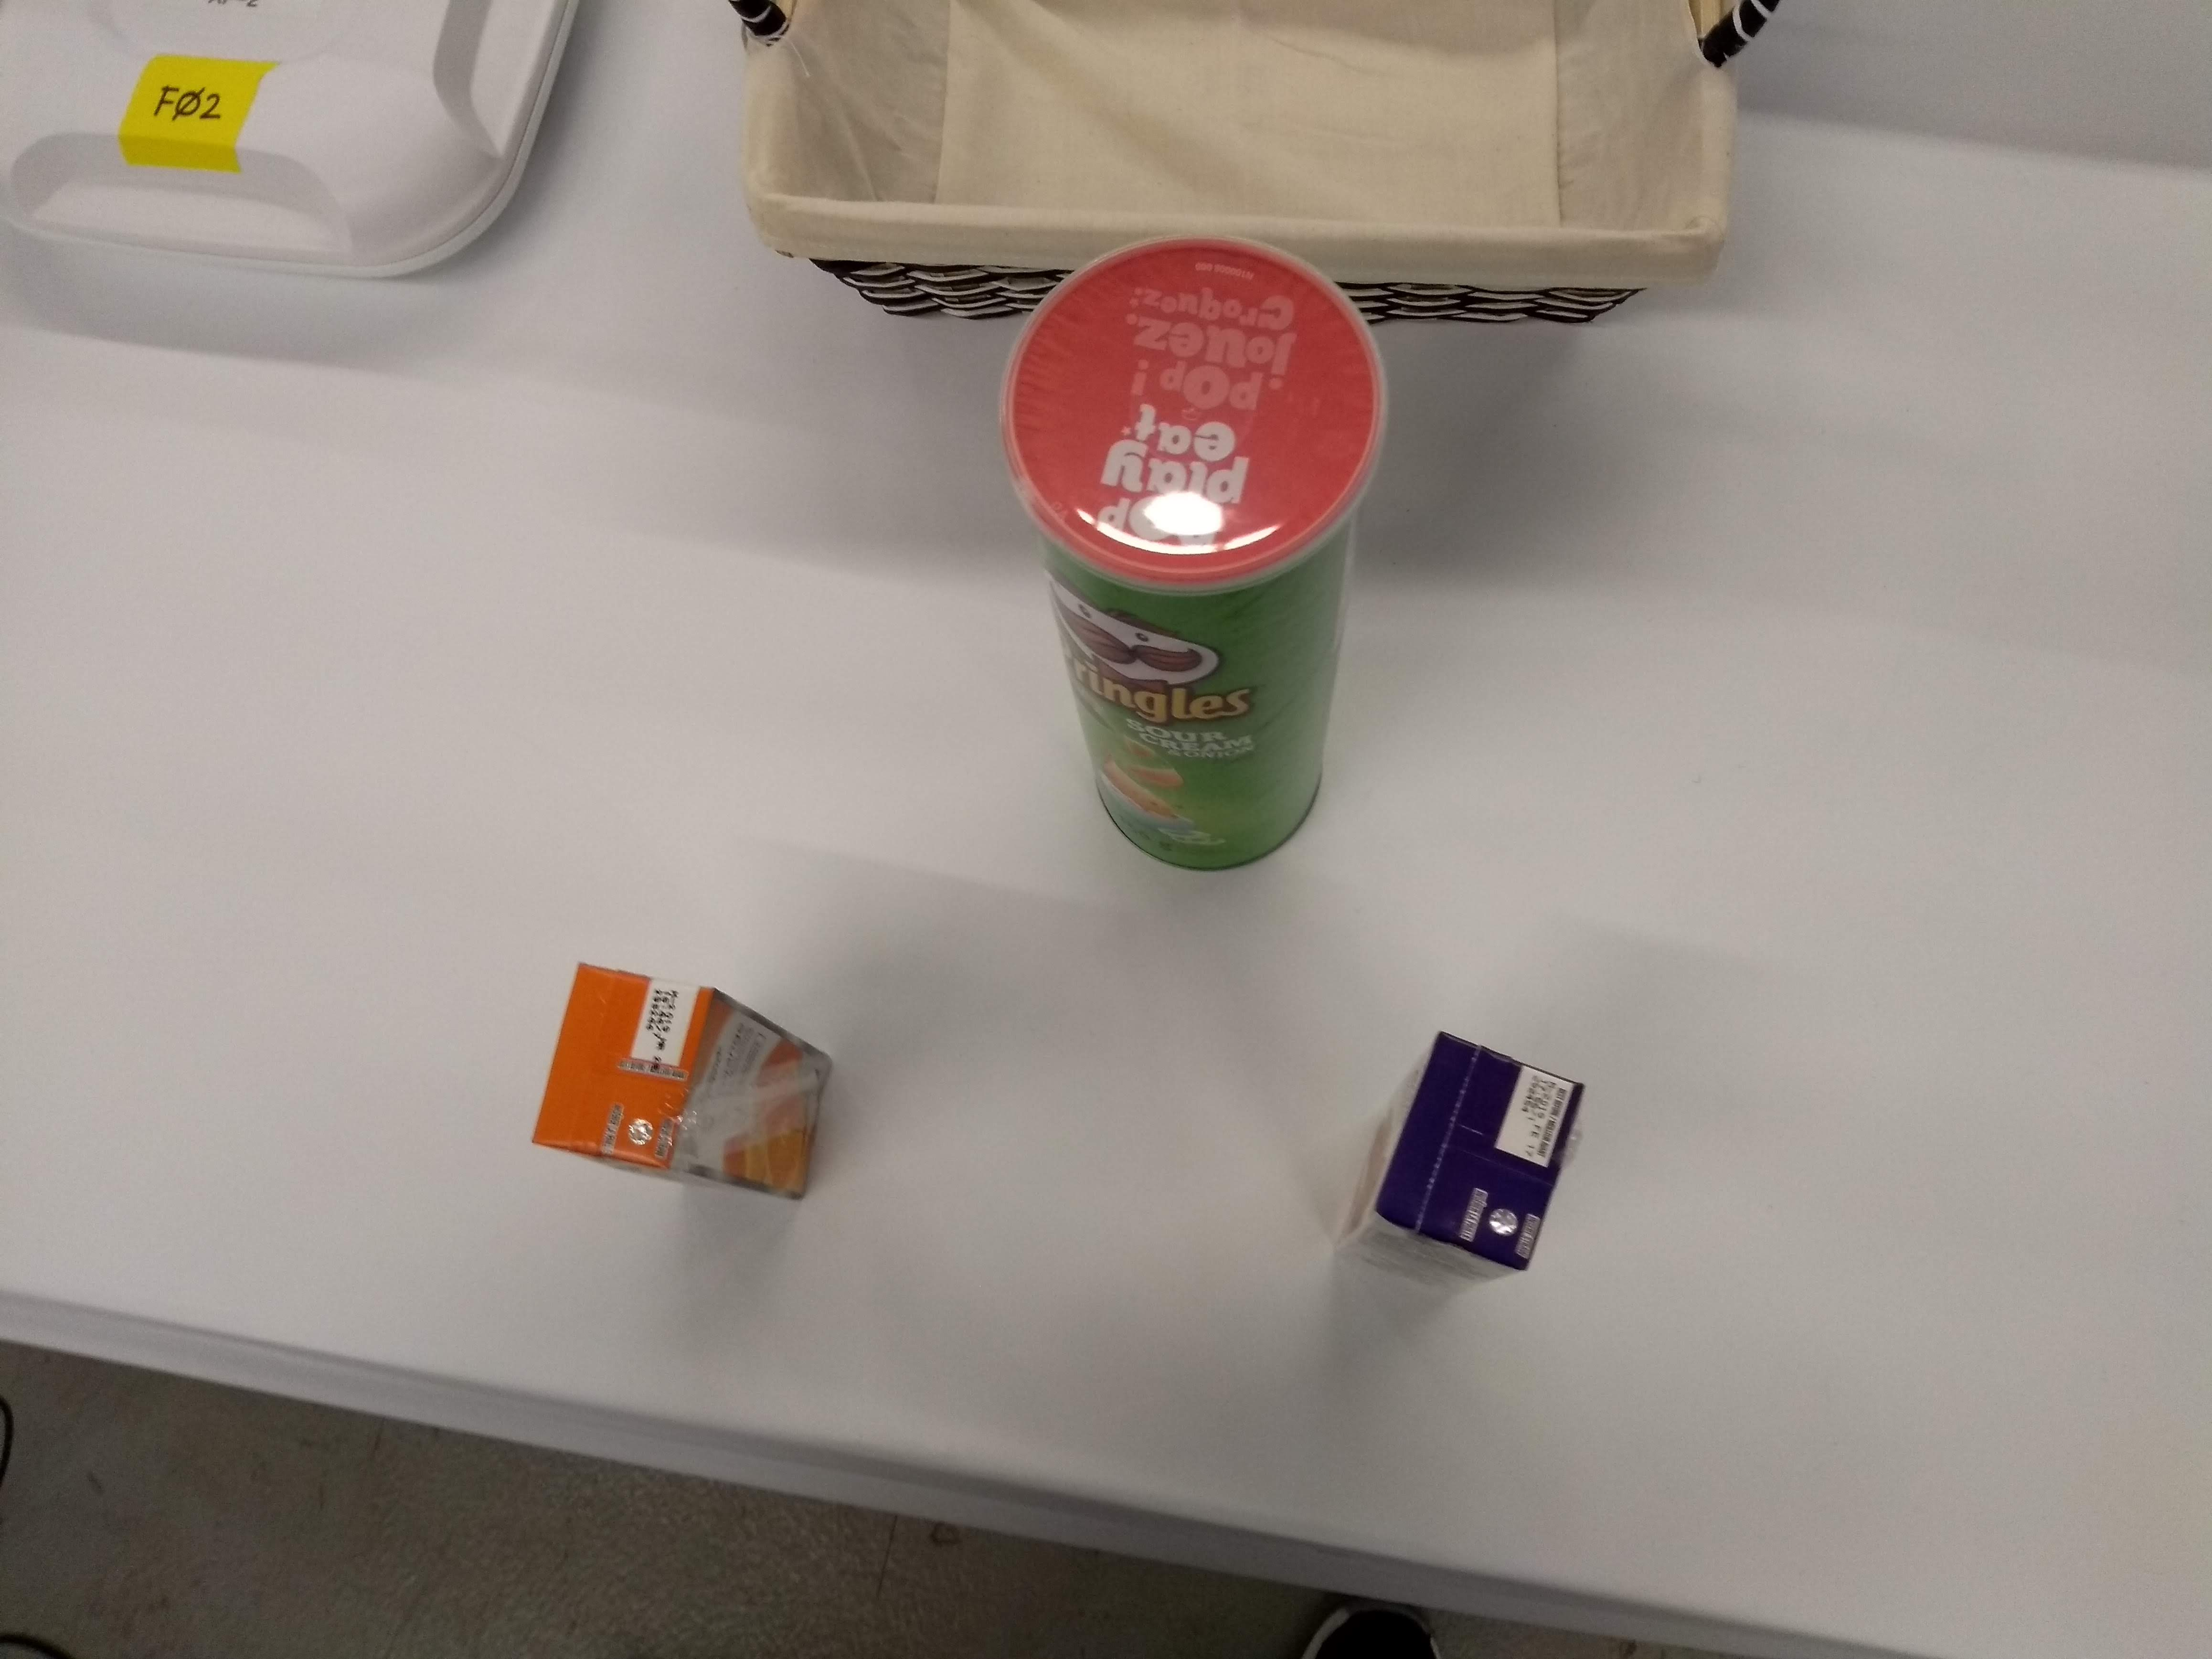grape_juice: (1312, 1019, 1592, 1305)
orange_juice: (510, 953, 855, 1220)
pringles: (991, 218, 1402, 889)
